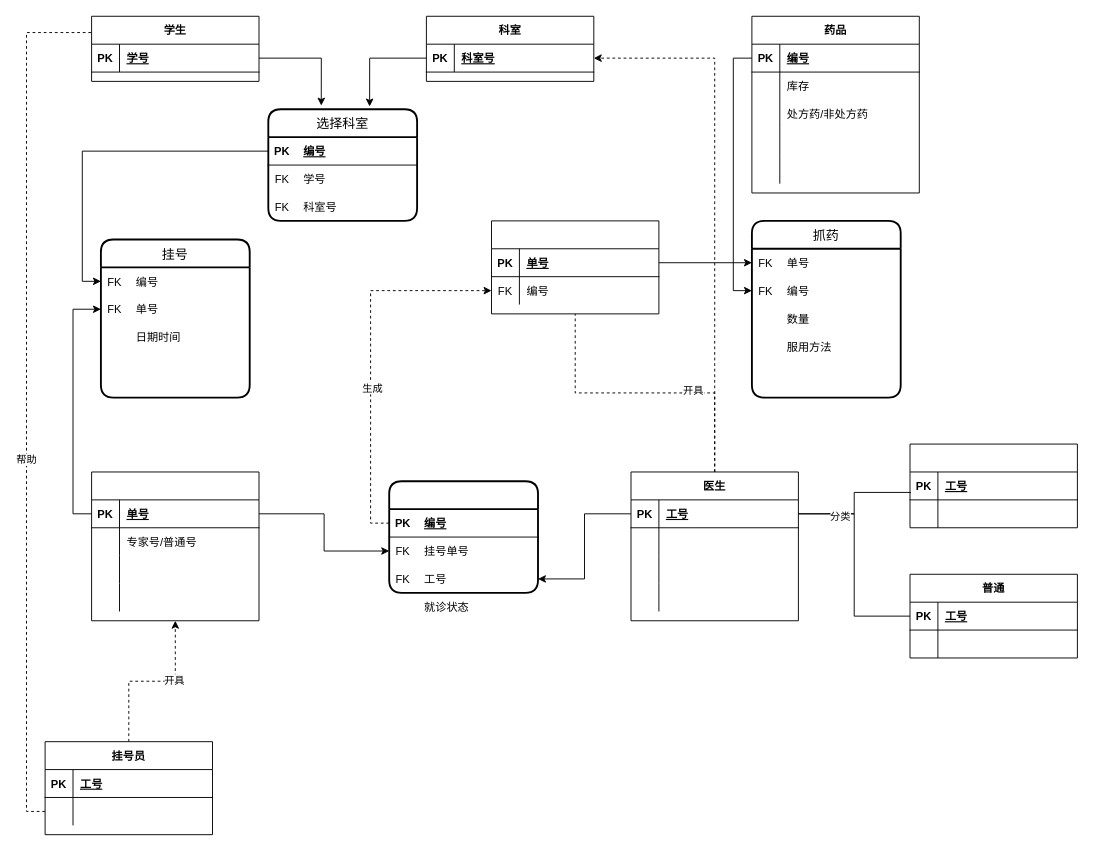
Image size: 1094x851. Some labels were removed from this diagram. Each missing label, with the box of its shape:
专家: (909, 443, 1077, 528)
处方: (491, 220, 659, 314)
挂号单: (91, 471, 259, 621)
问诊: (388, 480, 538, 593)
